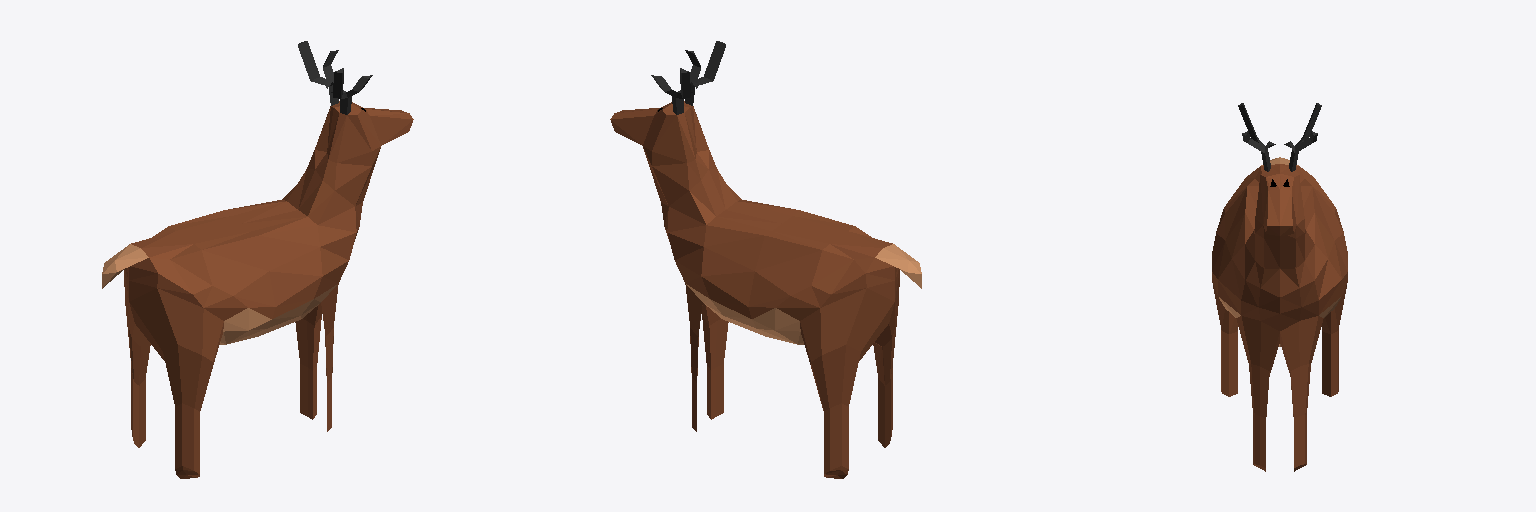
File: deer.obj
3 renders of one model, left to right at view 1: azimuth 30°, elevation 25°; view 2: azimuth 150°, elevation 25°; view 3: azimuth 270°, elevation 25°, orthographic.
Parts seen in each view (by area): view 1: Cube; view 2: Cube; view 3: Cube.
Part boxes in pixels (x1,y1,x2,y2): Cube: (102,41,413,478); Cube: (610,41,921,478); Cube: (1212,103,1347,471).
Bounding box in the file's own units: 2.72 × 3.12 × 1.04.